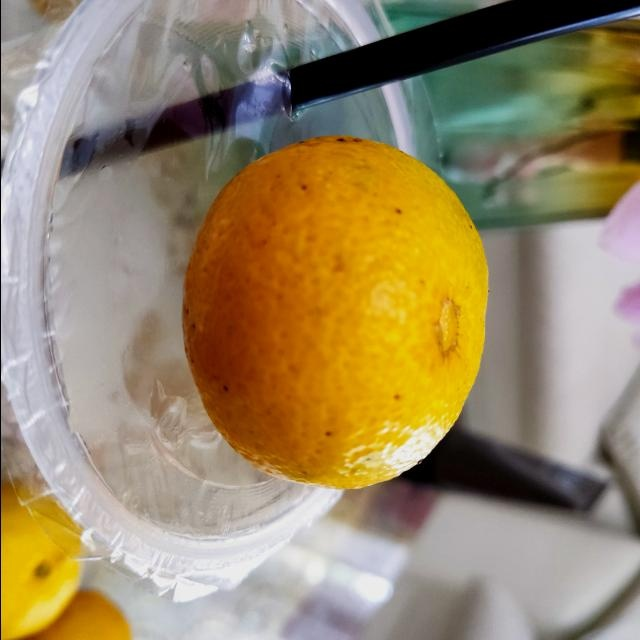agrume: (179, 131, 489, 496)
